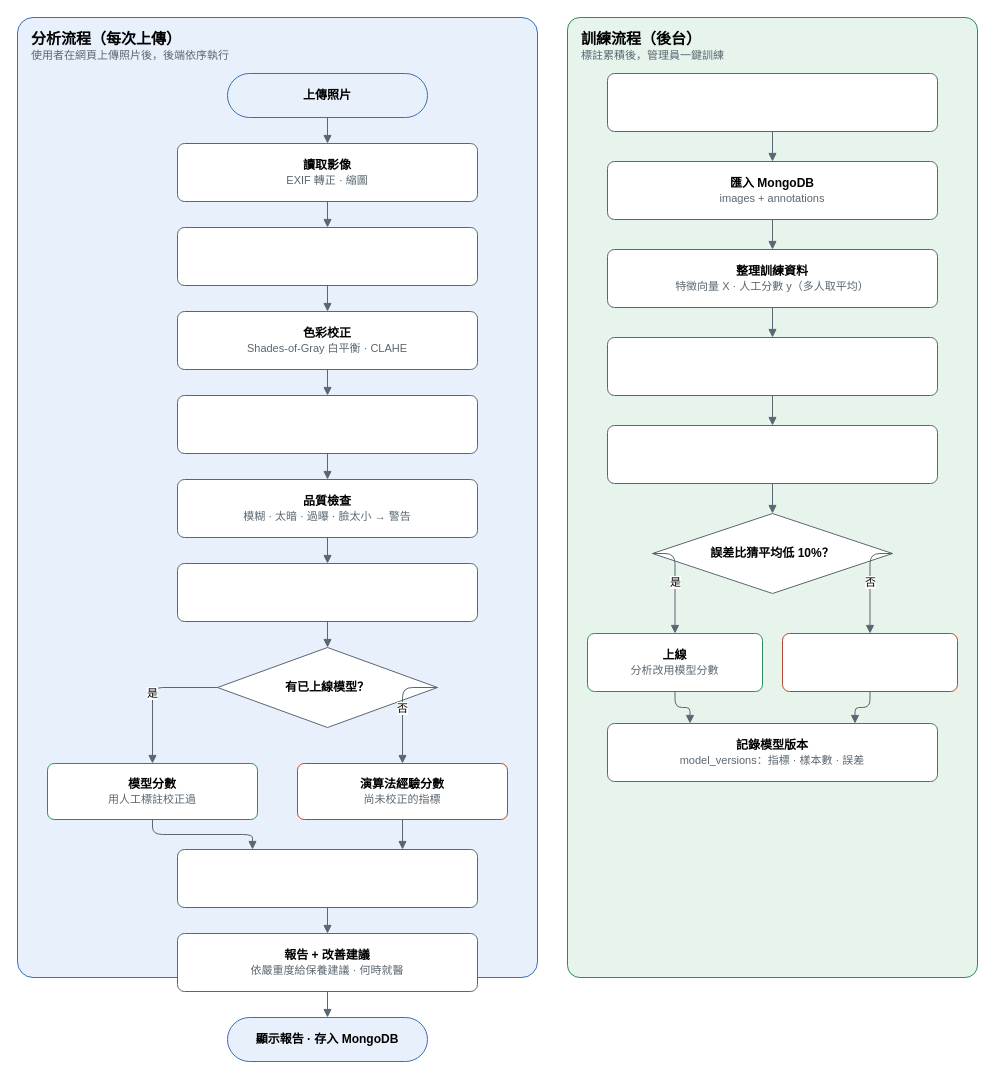
The diagram is 995 pixels wide and 1079 high, and some of its shapes have lost their labels. The centre of each missing label's shape, as x and y in pixels:
"5 折交叉驗證 MAE · Pearson r" goes at (772,454).
"8 項指標辨識 原始量測值 · 0~100 嚴重度 · 病灶遮罩" goes at (327,592).
"Gradient Boosting 迴歸 每個指標各一個模型" goes at (772,366).
"不上線 沿用演算法分數" goes at (870,662).
"同齡百分位 同年齡 ±5 歲 · 至少 10 筆" goes at (327,878).
"膚色遮罩 + 切 10 分區 排除頭髮眼眉嘴" goes at (327,424).
"臉部偵測與對齊 MediaPipe 478 點 → 依雙眼轉正 · 寬 600px" goes at (327,256).
"資料來源 公開資料集 · 後台人工標註" goes at (772,102).
